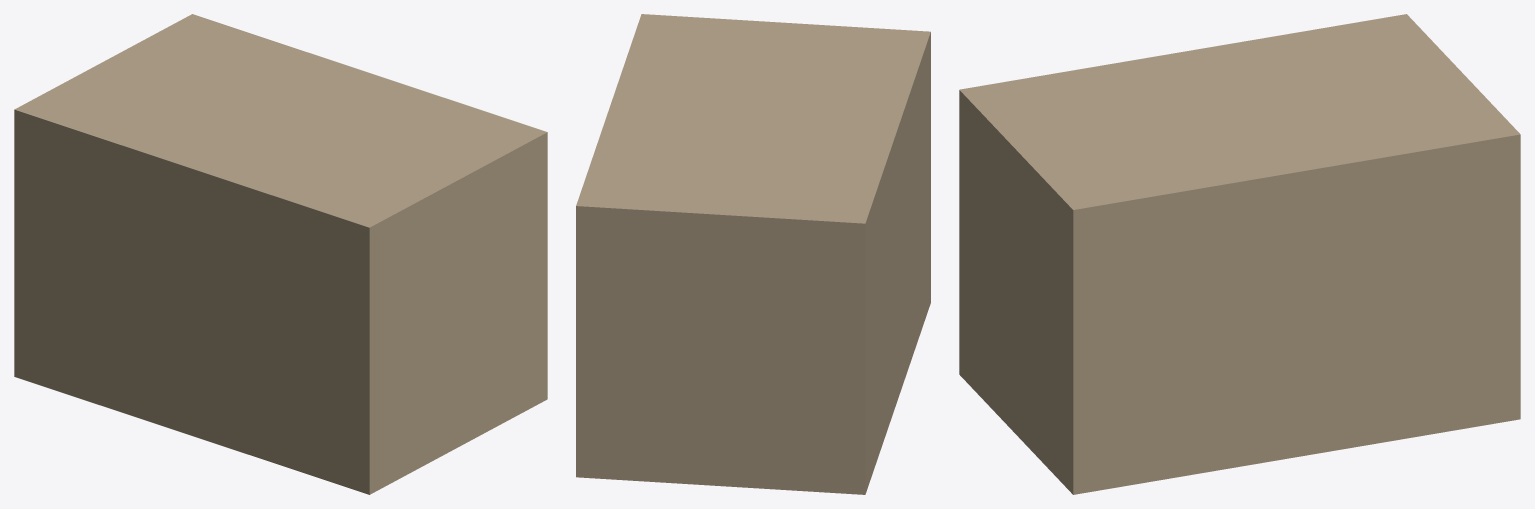
The model's file is bld_107715958.dae.
The picture shows the model from 3 angles, left to right: view 1: azimuth 30°, elevation 25°; view 2: azimuth 150°, elevation 25°; view 3: azimuth 270°, elevation 25°; orthographic projection. The views are drawn at different scales.
Visible parts, largest first — view 1: bld_107715958; view 2: bld_107715958; view 3: bld_107715958.
Boxes of the visible parts, box(x1,y1,x2,y2) form: bld_107715958: box(14, 14, 547, 494); bld_107715958: box(576, 14, 930, 494); bld_107715958: box(959, 14, 1520, 494).
Bounding box in the file's own units: 11.81 × 14.29 × 8.
